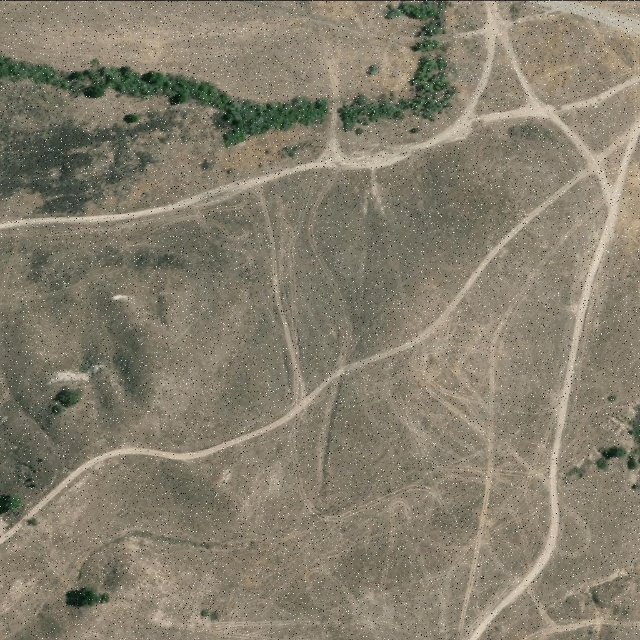vegetation: (0, 47, 332, 152), (339, 0, 455, 136), (586, 399, 639, 494), (46, 383, 82, 421), (67, 586, 109, 609), (0, 492, 21, 517)
